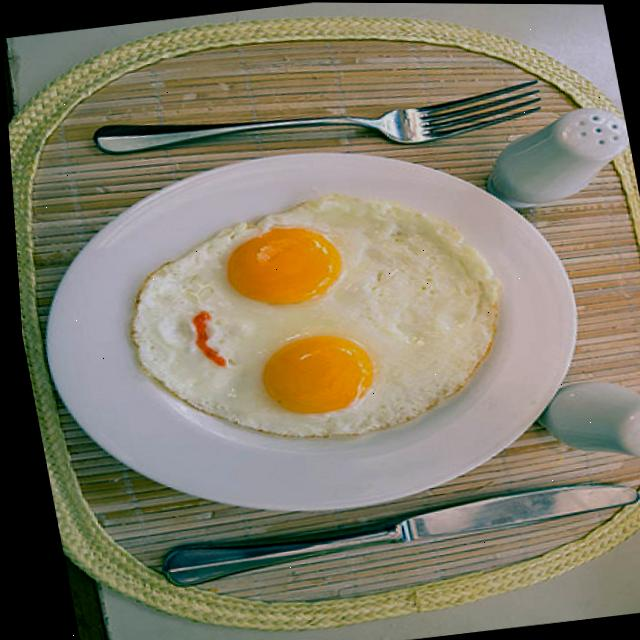鸡蛋料理: (12, 231, 498, 582)
